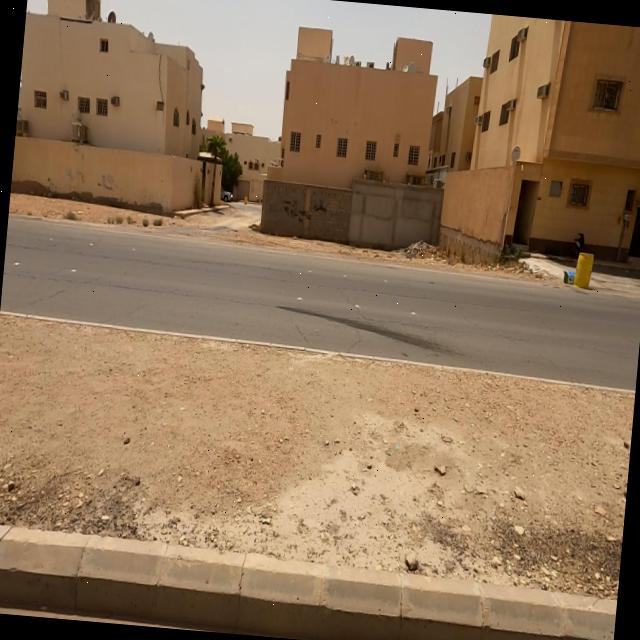Graffiti: (281, 197, 330, 229), (97, 175, 116, 194)
